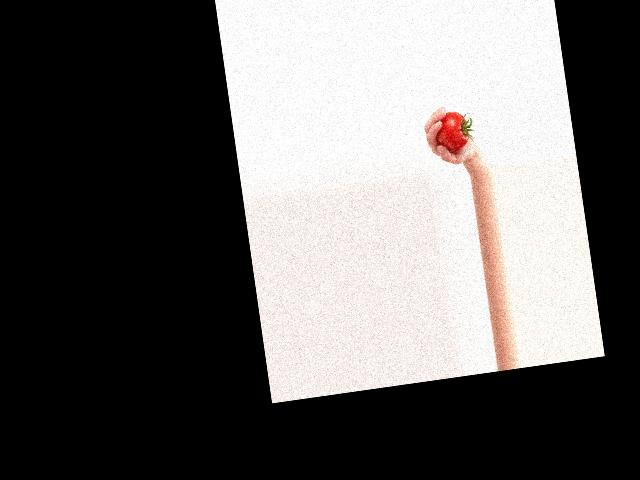tomato: (433, 109, 470, 152)
